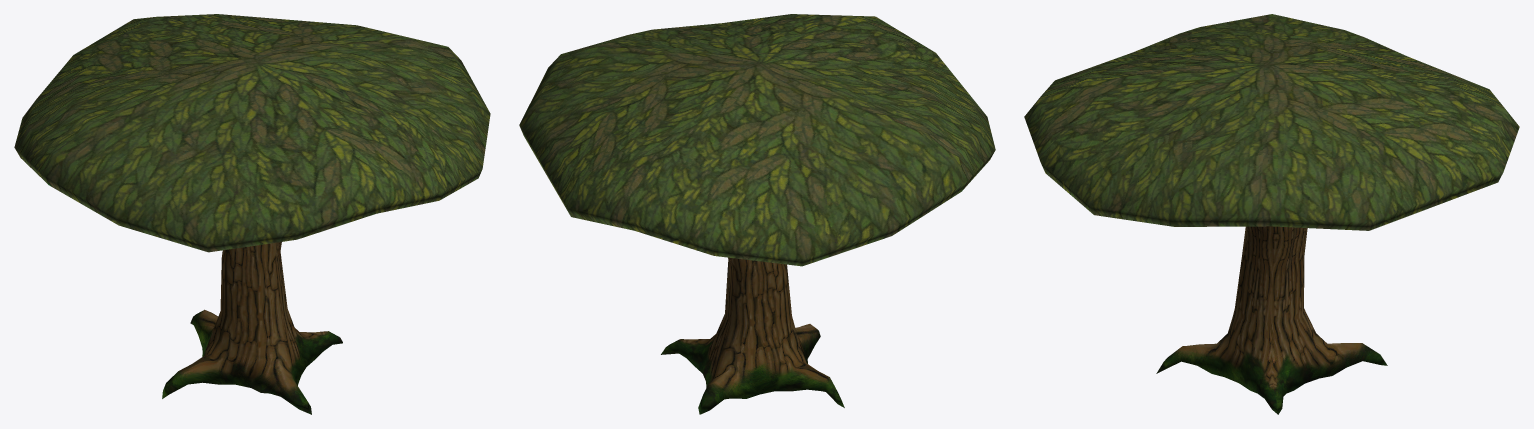
File: Tree52Shape.dae
The picture shows the model from 3 angles, left to right: view 1: azimuth 30°, elevation 25°; view 2: azimuth 150°, elevation 25°; view 3: azimuth 270°, elevation 25°; orthographic projection.
Parts seen in each view (by area): view 1: Tree52; view 2: Tree52; view 3: Tree52.
Boxes of the visible parts, x1,y1,x2,y2 form: Tree52: [14, 14, 490, 414]; Tree52: [519, 14, 995, 414]; Tree52: [1024, 14, 1519, 414].
Size of the model in its own units: 24.52 by 17.89 by 25.44.
